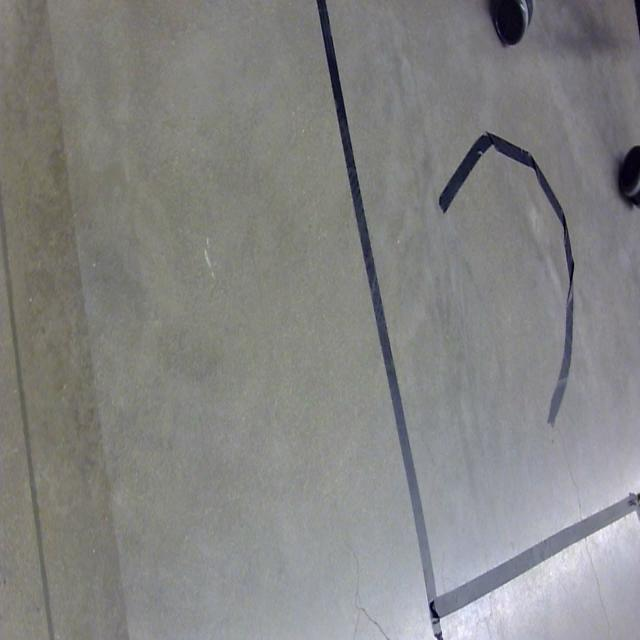tape: (317, 0, 640, 640), (440, 133, 576, 428)
